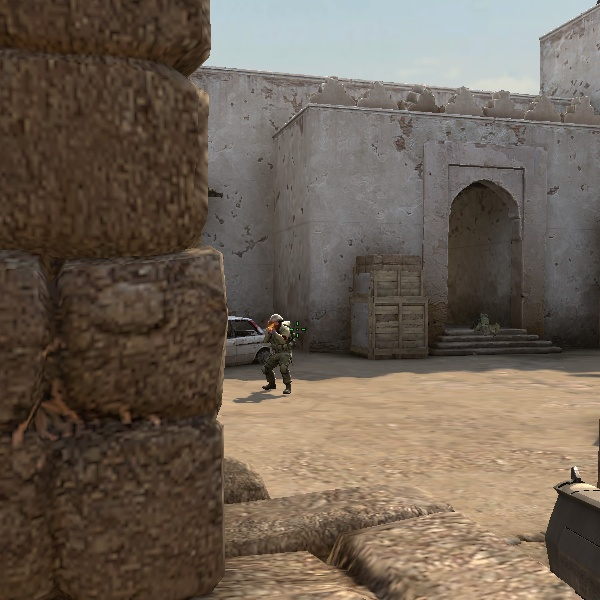ct_body: (261, 313, 295, 394)
ct_head: (268, 313, 284, 330)
